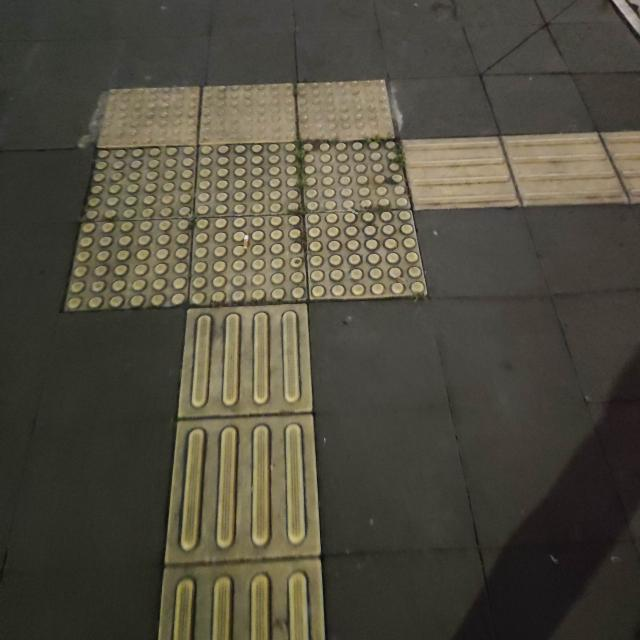kanan: (157, 112, 580, 372)
